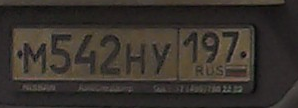character: (100, 32, 123, 77), (50, 31, 72, 76), (74, 34, 98, 75), (21, 42, 47, 77), (124, 40, 148, 76), (151, 40, 172, 76), (201, 29, 220, 64), (221, 29, 241, 62), (182, 30, 200, 62)
